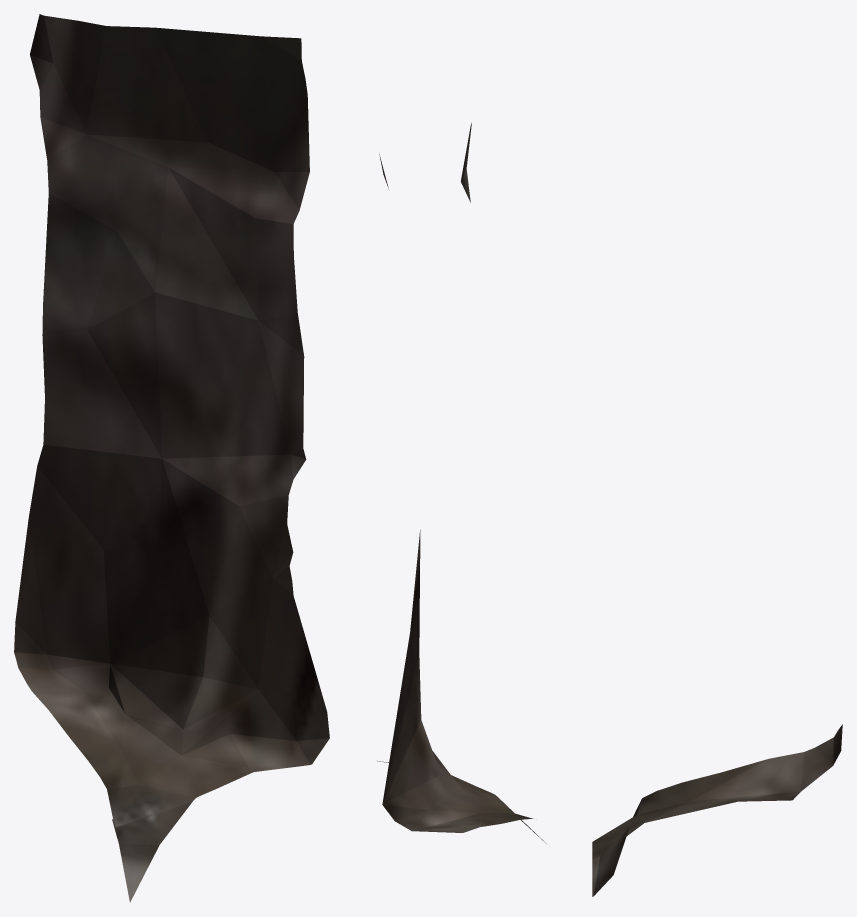
3 renders of one model, left to right at view 1: azimuth 30°, elevation 25°; view 2: azimuth 150°, elevation 25°; view 3: azimuth 270°, elevation 25°, orthographic. The views are drawn at different scales.
Bounding box in the file's own units: 0.1386 × 0.5452 × 0.1392.
Materials: 1 (1 with a texture image).
